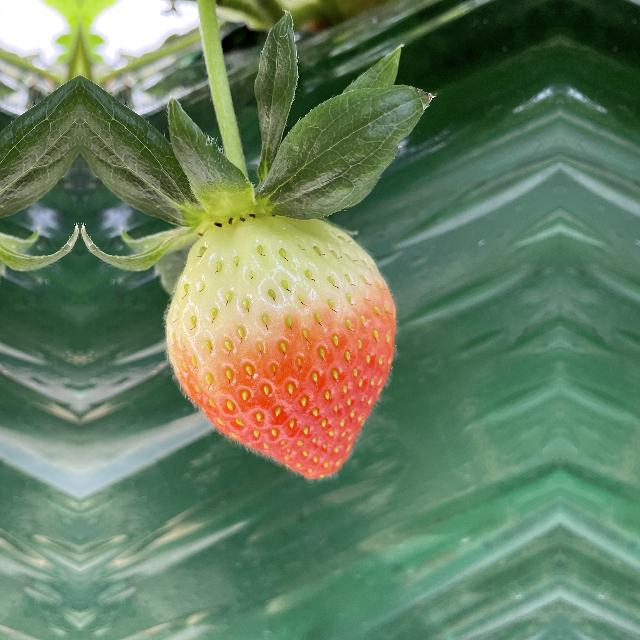Health_75: (165, 208, 415, 488)
